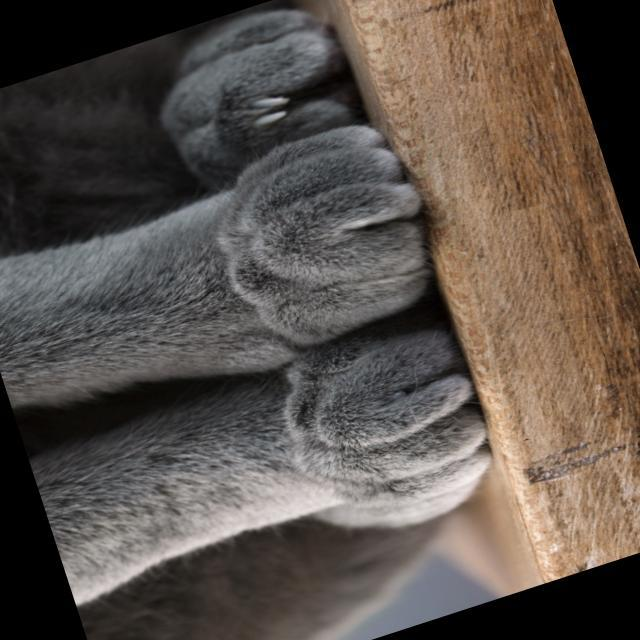Healthy skin: (46, 404, 296, 580), (0, 224, 213, 371), (226, 162, 360, 328), (297, 357, 404, 518), (172, 45, 267, 154), (186, 308, 260, 362)
